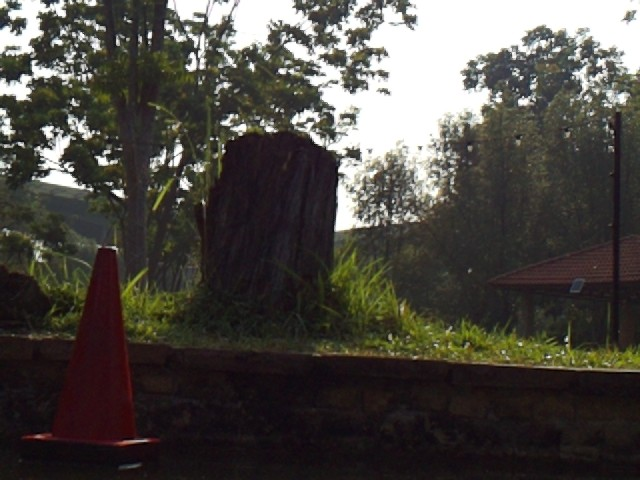obstacle: (23, 244, 161, 461)
